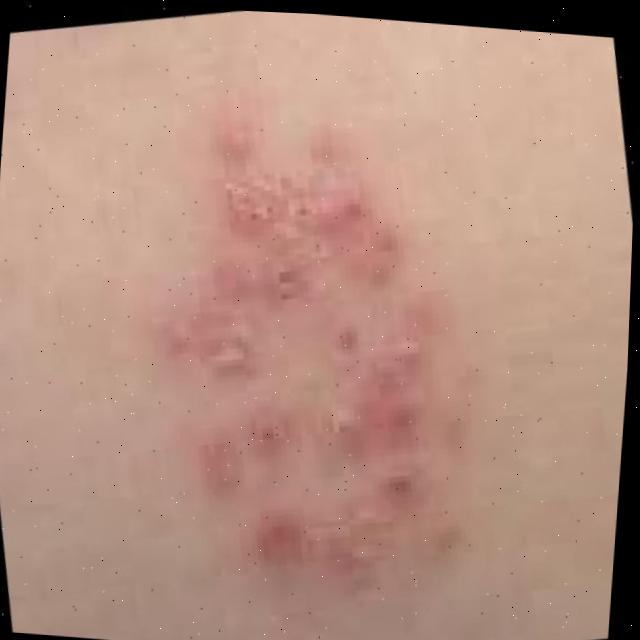Shingles: (164, 113, 445, 600)
